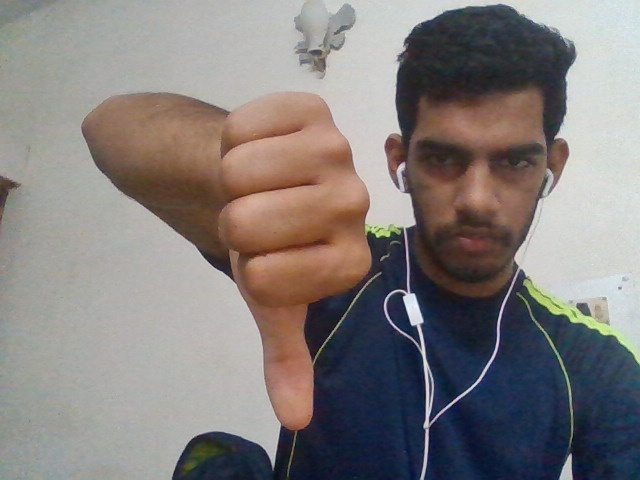no: (194, 87, 395, 433)
